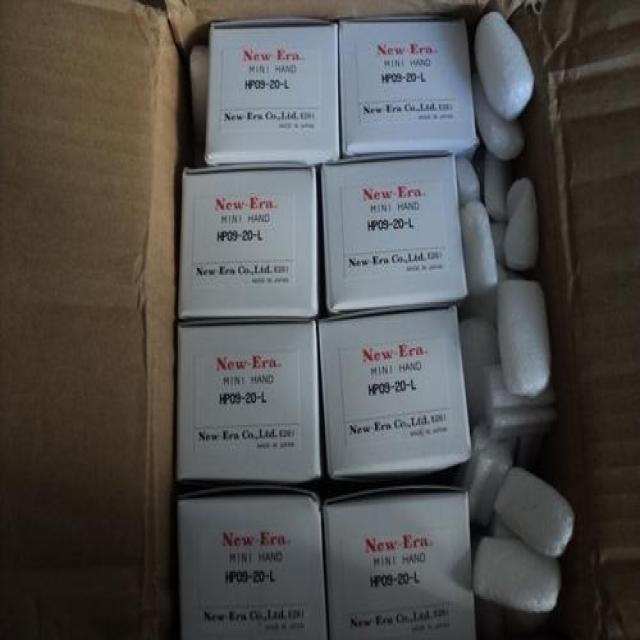box: (317, 304, 471, 483), (175, 317, 321, 486), (321, 486, 477, 640), (323, 152, 468, 314), (178, 486, 328, 640), (178, 162, 319, 324), (339, 15, 480, 162), (205, 17, 339, 167)
